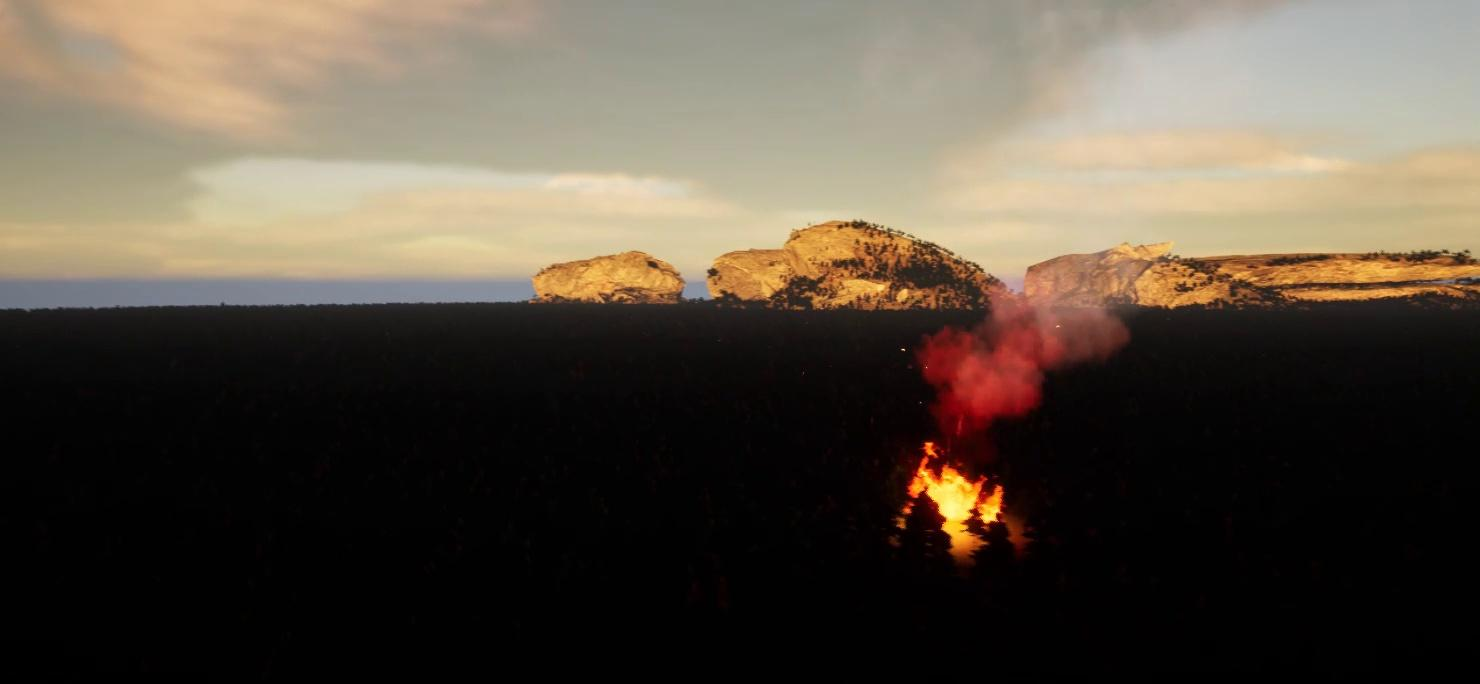fire: (900, 434, 1015, 534)
smoke: (918, 270, 1126, 421)
